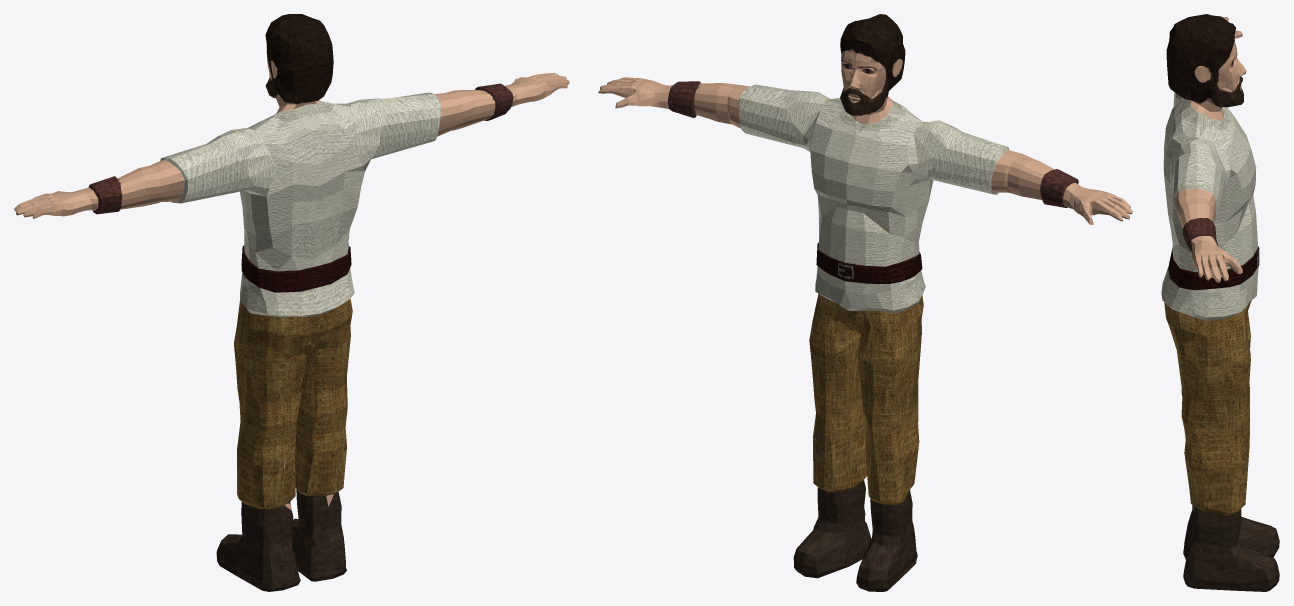
Rendered from Tom.fbx.
The picture shows the model from 3 angles, left to right: view 1: azimuth 30°, elevation 25°; view 2: azimuth 150°, elevation 25°; view 3: azimuth 270°, elevation 25°; orthographic projection. The views are drawn at different scales.
Parts seen in each view (by area): view 1: lumberJack; view 2: lumberJack; view 3: lumberJack.
Boxes of the visible parts, x1,y1,x2,y2 form: lumberJack: (14,14,569,591); lumberJack: (598,14,1132,591); lumberJack: (1161,14,1279,591).
Bounding box in the file's own units: 0.3512 × 1.81 × 1.86.
1 material, 1 textured.
